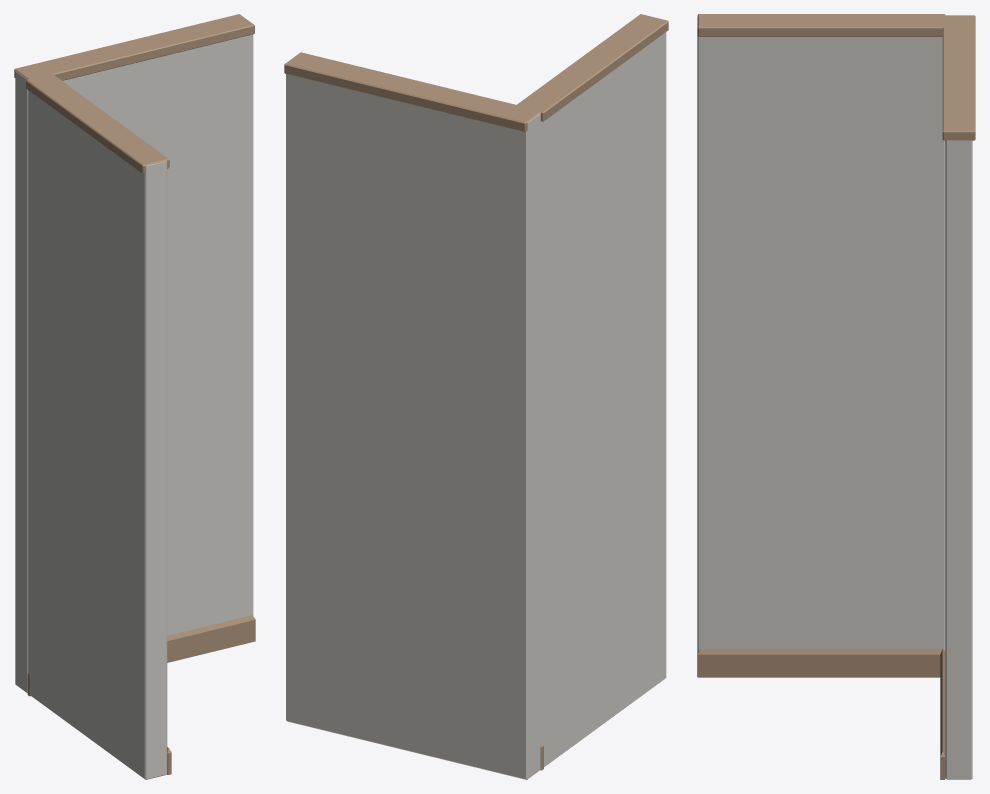
Rendered from hotel-and-resort-operations-partition-wall-corner-80337e40__25845.glb.
The picture shows the model from 3 angles, left to right: view 1: azimuth 30°, elevation 25°; view 2: azimuth 150°, elevation 25°; view 3: azimuth 270°, elevation 25°; orthographic projection. The views are drawn at different scales.
Visible parts, largest first — view 1: partition-wall-corner; view 2: partition-wall-corner; view 3: partition-wall-corner.
Boxes of the visible parts, <box> form: partition-wall-corner: <box>14,14,255,779</box>; partition-wall-corner: <box>284,14,668,779</box>; partition-wall-corner: <box>697,14,975,779</box>.
Size of the model in its own units: 1.01 by 2.6 by 1.01.
